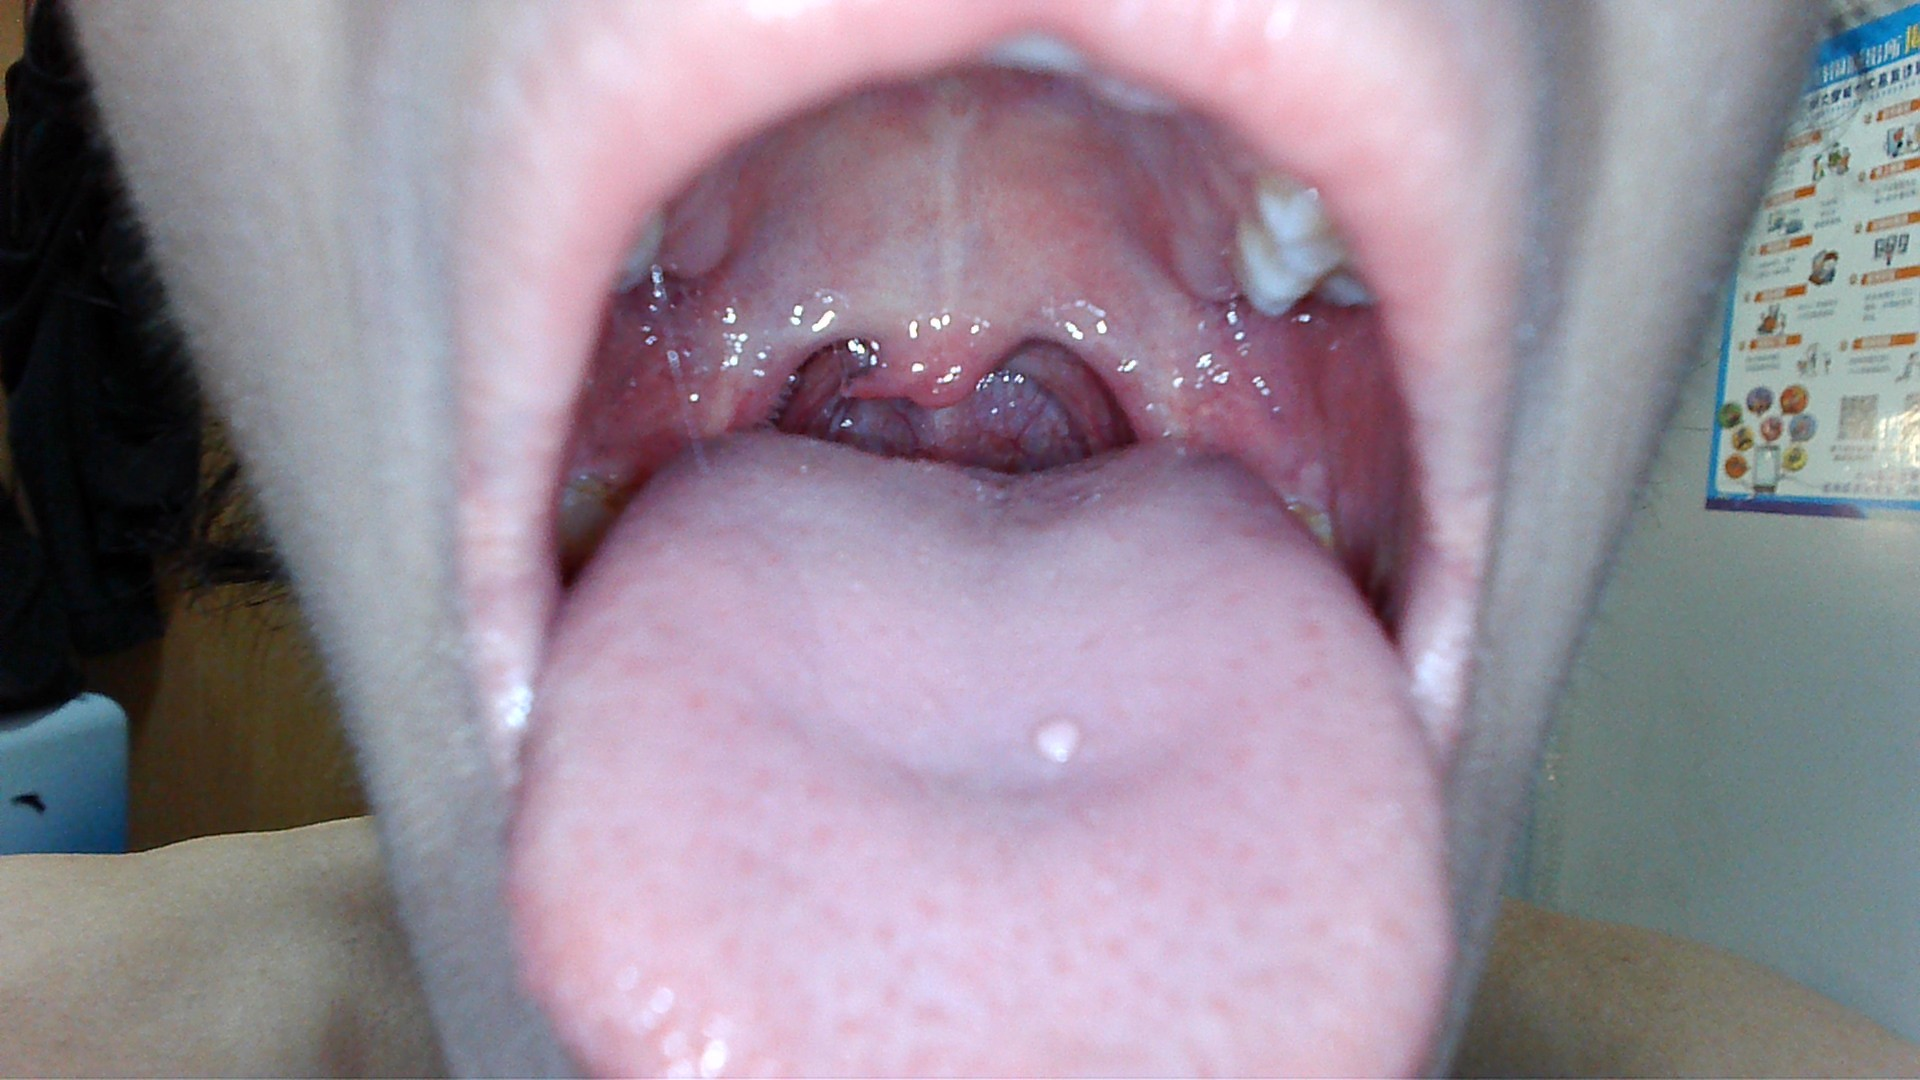throat: (1083, 284, 1185, 436), (705, 287, 798, 429)
